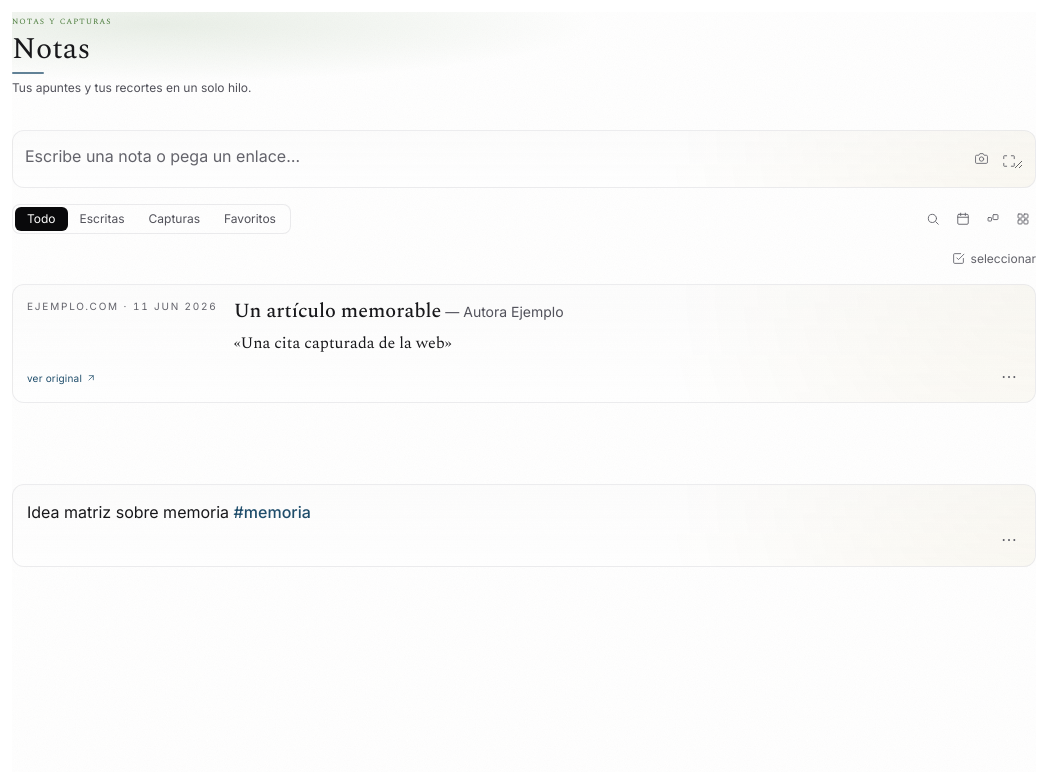
Test: <NotasFeedView /> › el buscador es on-demand: la lupa lo expande y filtra el feed
Expected: the text "Idea matriz sobre memoria #memoria" is shown, [27,502,311,522]
Expected: the field with placeholder "Buscar en notas y capturas" is not shown
La lupa expande el input.
Click the button named "Buscar en notas y capturas". click: (933, 218)
box: [920,206,946,232]
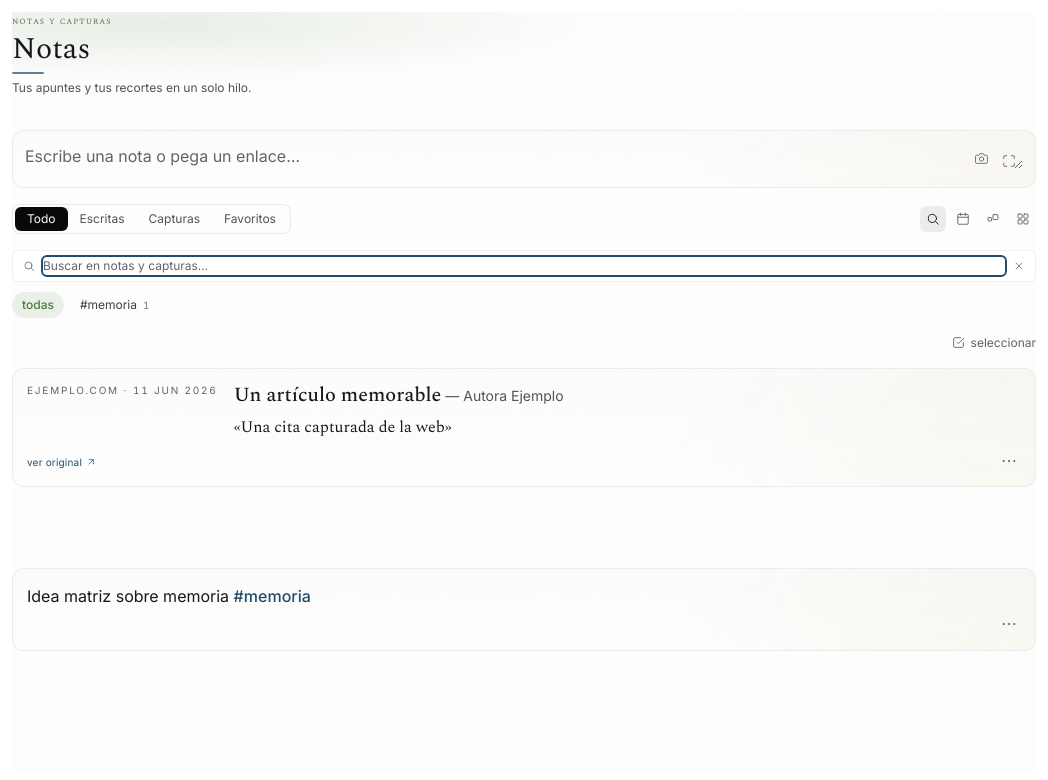
Buscar algo que solo matchea la nota oculta el recorte.
Type "memoria" into the field with placeholder "Buscar en notas y capturas…". click: (524, 266)
box: [43,256,1005,274]
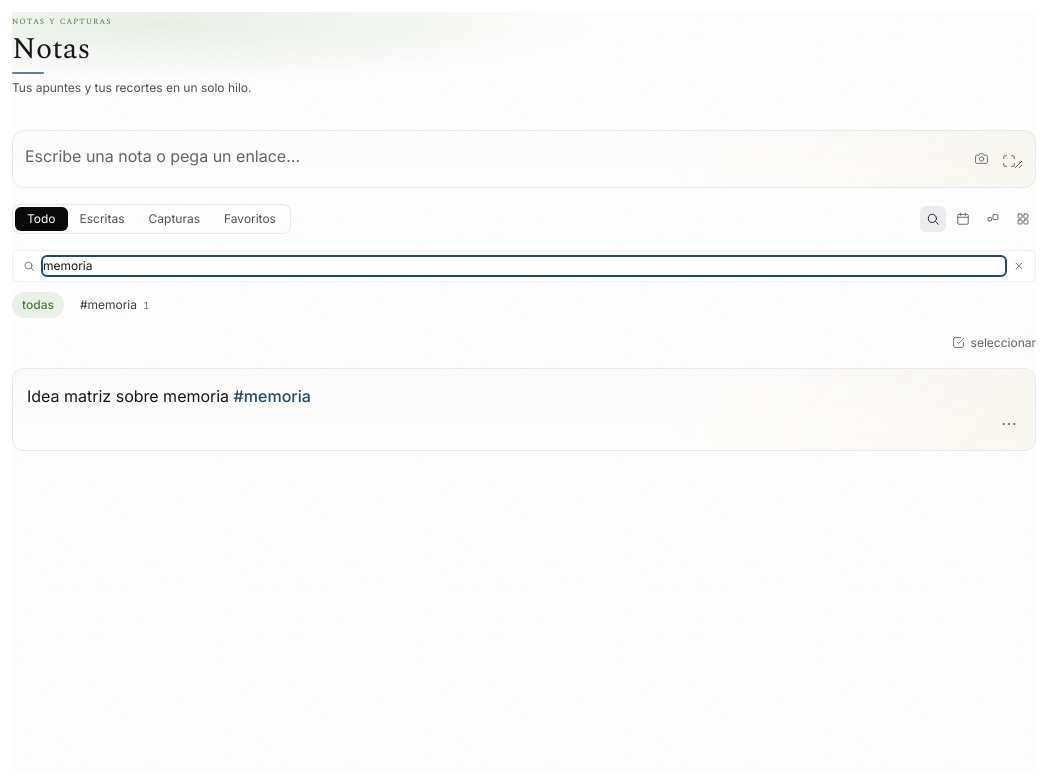
Expected: the text "Idea matriz sobre memoria #memoria" is shown, [27,386,311,406]
Expected: the text "Una cita capturada de la web" is gone
Cerrar el buscador desmonta el input y limpia la búsqueda.
Click the button named "Cerrar búsqueda". click: (1019, 266)
box: [1013,260,1025,272]
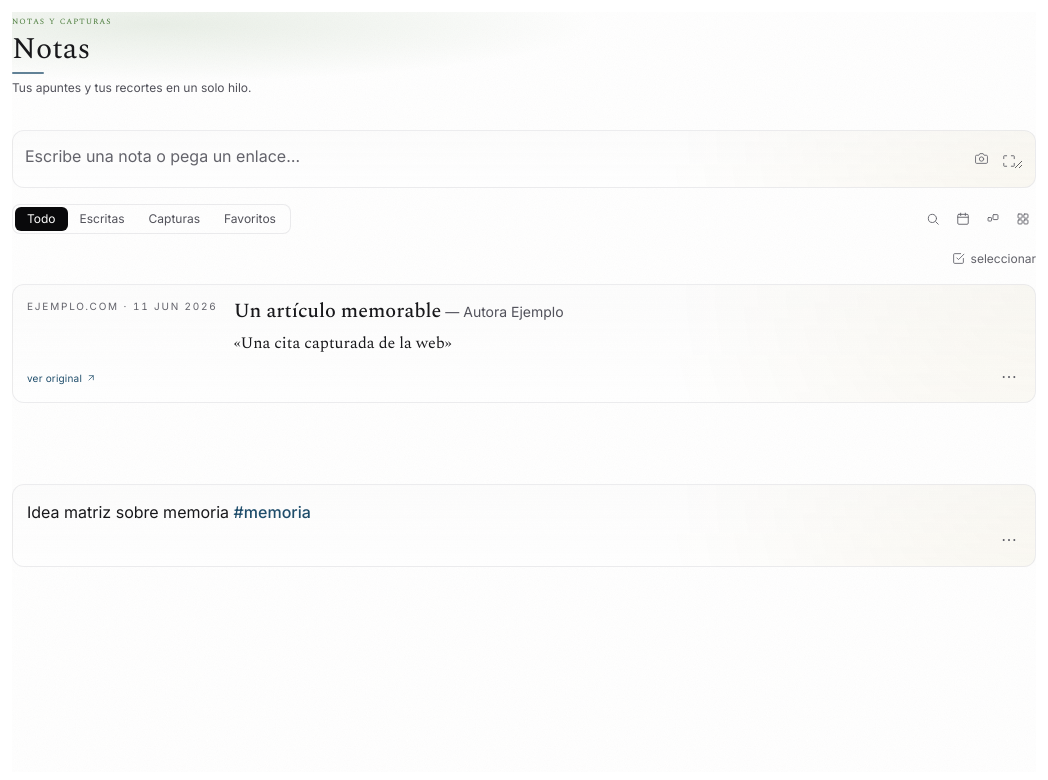
Expected: the field with placeholder "Buscar en notas y capturas" is not shown
Expected: the text "«Una cita capturada de la web»" is shown, [234,330,452,354]
